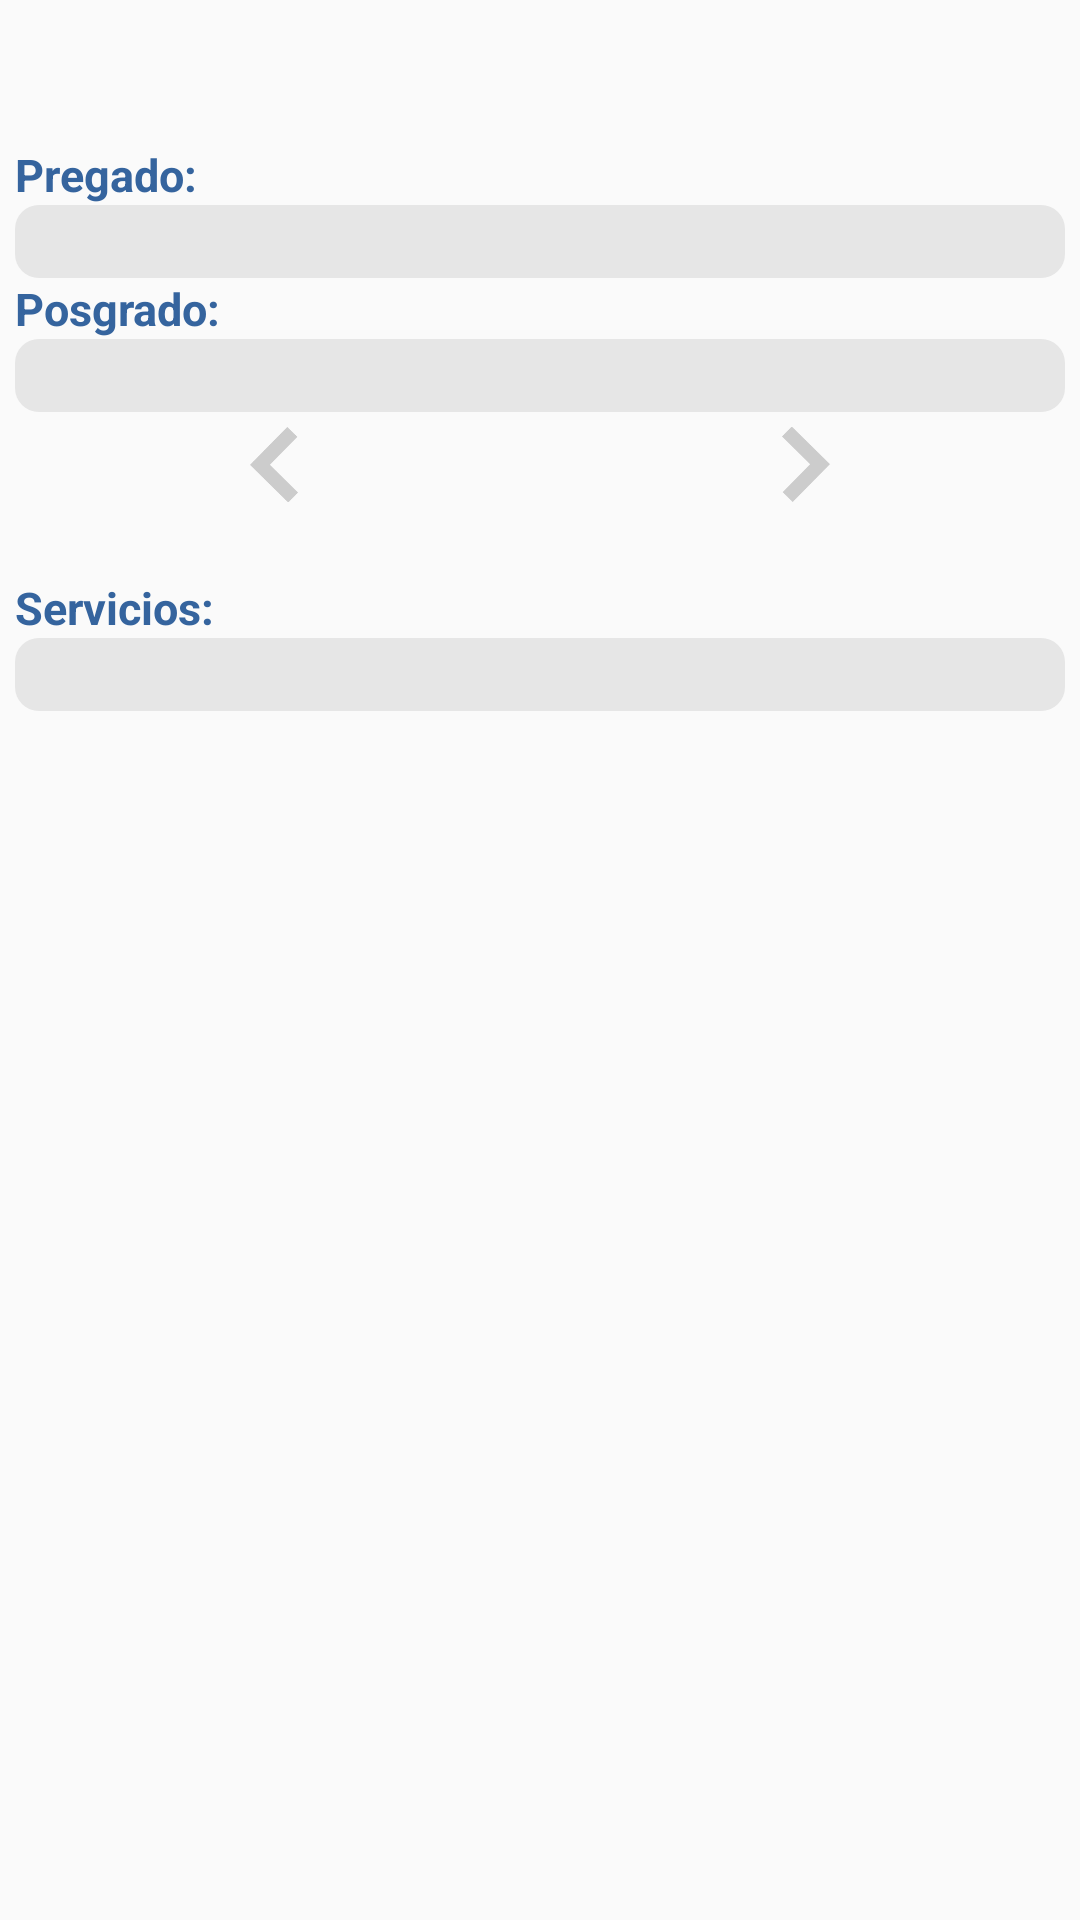

Where to tap for icons on this 1080px×1920px app screen, as (x,y):
PREVIO: (274,464)
SIGUIENTE: (806,464)
